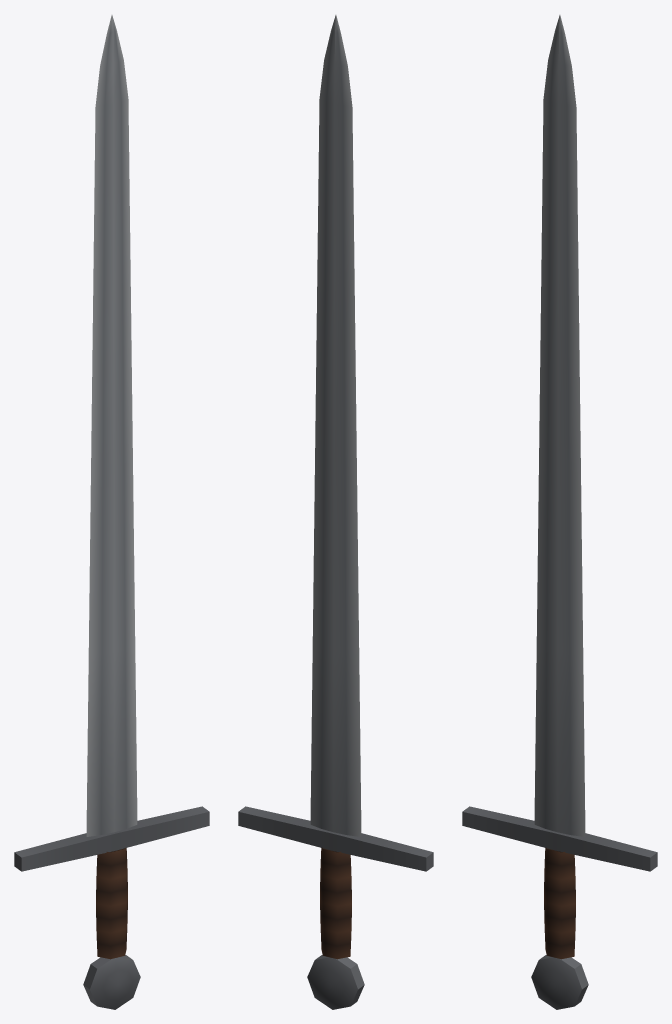
Rendered from sword_iron.glb.
The picture shows the model from 3 angles, left to right: view 1: azimuth 30°, elevation 25°; view 2: azimuth 150°, elevation 25°; view 3: azimuth 330°, elevation 25°; orthographic projection.
Visible parts, largest first — view 1: sword_iron; view 2: sword_iron; view 3: sword_iron.
Boxes of the visible parts, x1=… form: sword_iron: x1=14, y1=15, x2=209, y2=1009; sword_iron: x1=238, y1=15, x2=433, y2=1009; sword_iron: x1=462, y1=15, x2=657, y2=1009.
Size of the model in its own units: 0.188 by 0.9489 by 0.0225.
